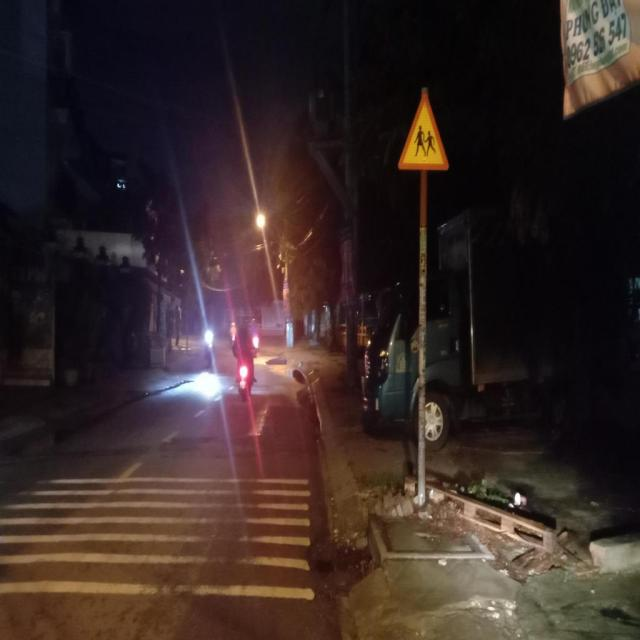chu_y_tre_em: (398, 92, 452, 170)
